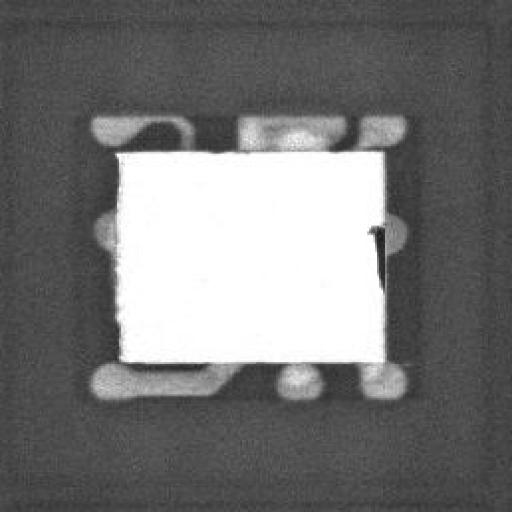DIE_BROKEN: (361, 220, 387, 290)
